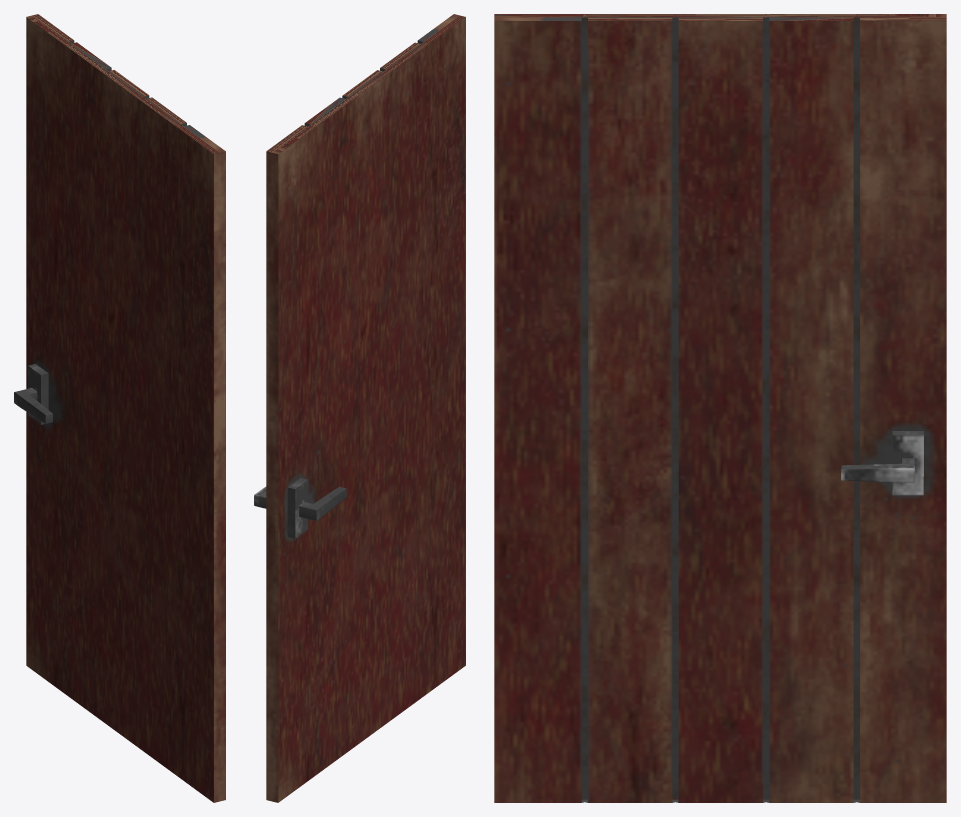
File: Door House2.fbx
3 views of the same model, side by side, from view 1: azimuth 30°, elevation 25°; view 2: azimuth 150°, elevation 25°; view 3: azimuth 270°, elevation 25° (orthographic). The views are drawn at different scales.
Parts seen in each view (by area): view 1: Porta 2.004; view 2: Porta 2.004; view 3: Porta 2.004.
Boxes of the visible parts, left/top/right/bottom form: Porta 2.004: left=14, top=14, right=225, bottom=802; Porta 2.004: left=254, top=14, right=465, bottom=802; Porta 2.004: left=494, top=14, right=946, bottom=802.
Size of the model in its own units: 19.88 by 197 by 103.
